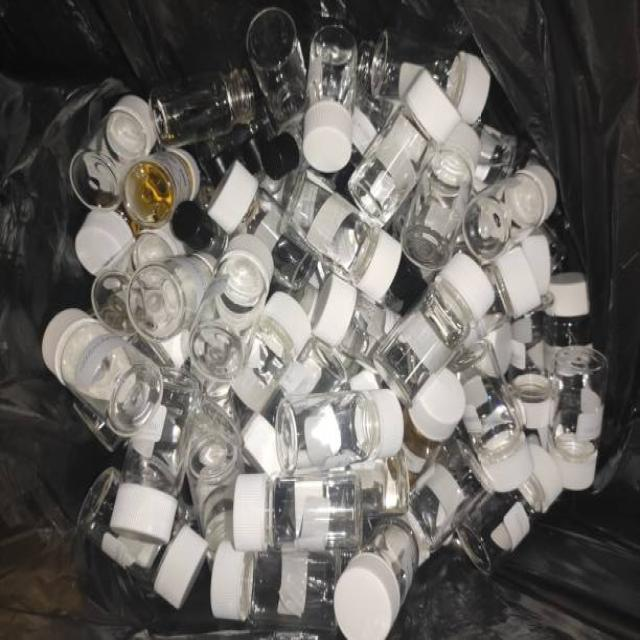glass: (68, 95, 546, 602)
